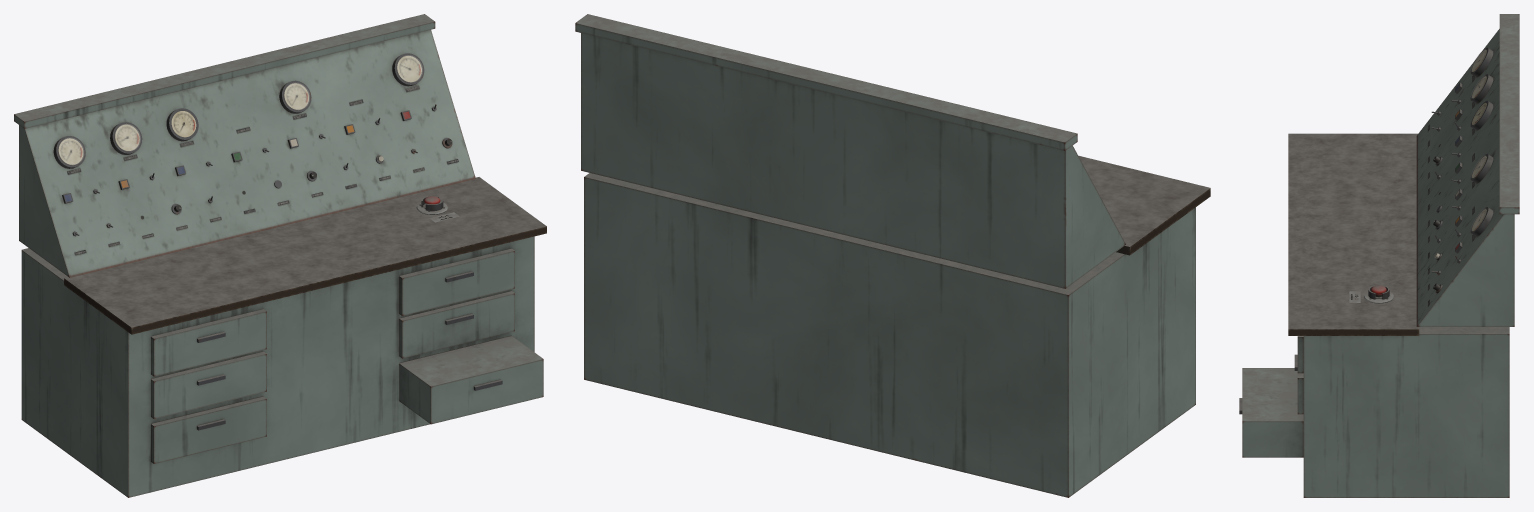
The model's file is SM_ControlConsole_B_AZ5.fbx.
The picture shows the model from 3 angles, left to right: view 1: azimuth 30°, elevation 25°; view 2: azimuth 150°, elevation 25°; view 3: azimuth 270°, elevation 25°; orthographic projection. The views are drawn at different scales.
Parts seen in each view (by area): view 1: SM_ControlConsole_B_AZ5; view 2: SM_ControlConsole_B_AZ5; view 3: SM_ControlConsole_B_AZ5.
Boxes of the visible parts, left/top/right/bottom form: SM_ControlConsole_B_AZ5: left=14, top=14, right=546, bottom=497; SM_ControlConsole_B_AZ5: left=575, top=14, right=1210, bottom=497; SM_ControlConsole_B_AZ5: left=1239, top=14, right=1519, bottom=497.
Bounding box in the file's own units: 1.84 × 1.28 × 1.12.
2 materials, 1 textured.
